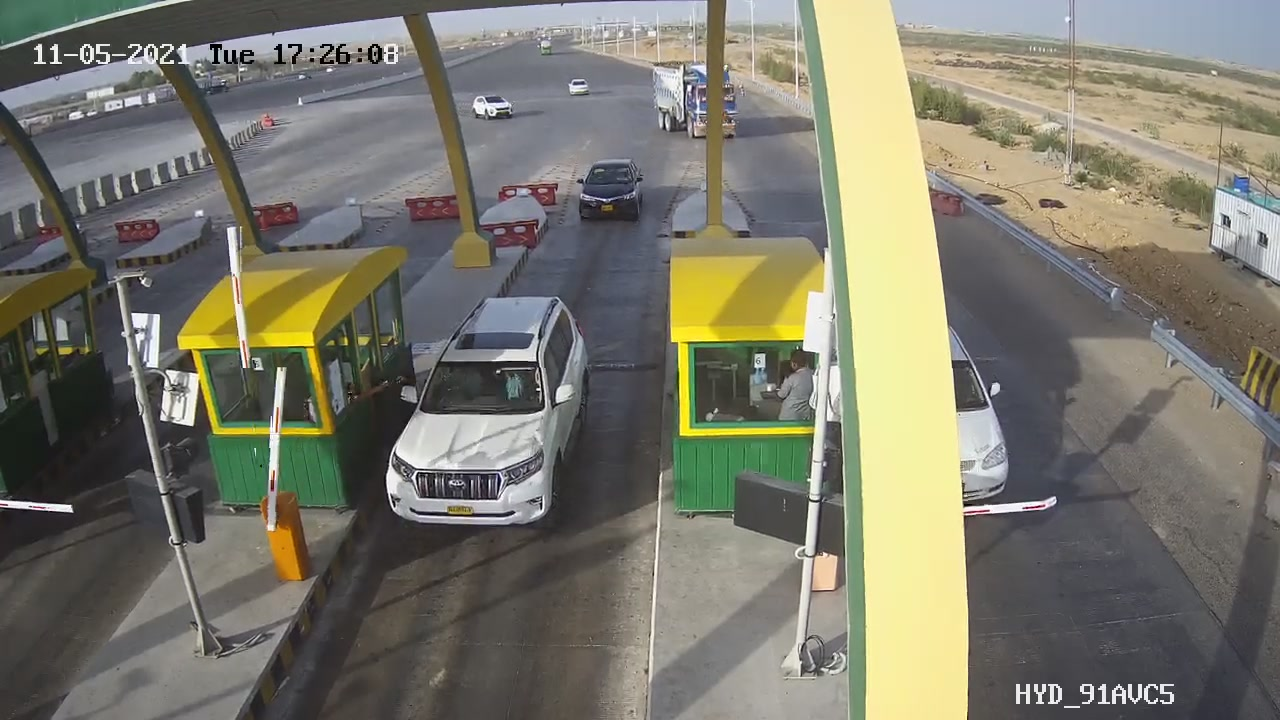F1: (347, 273, 622, 555)
